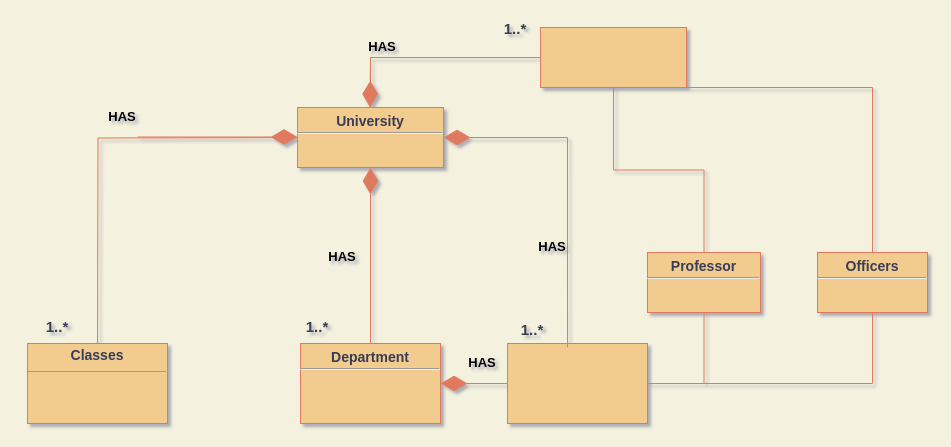
Image size: 951x447. Some labels were removed from this diagram. Each missing label, with the centre of its shape:
"Work Offices" belongs at point (577, 383).
"Worker" belongs at point (613, 57).
